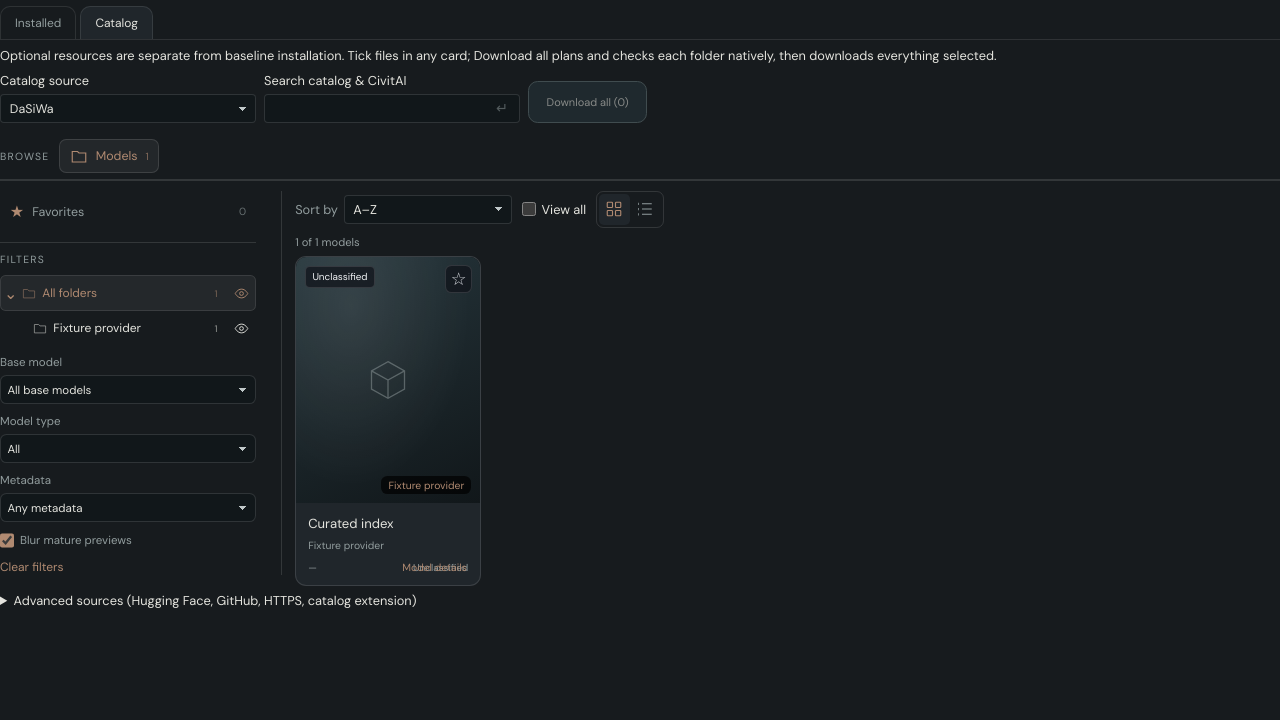
Test: installed advice exposes missing companions and opens their Library category without download or selection
This screenshot has width=1280, height=720.
Click the tab "Installed".
click(38, 22)  # box top-left (0, 6), bottom-right (76, 39)
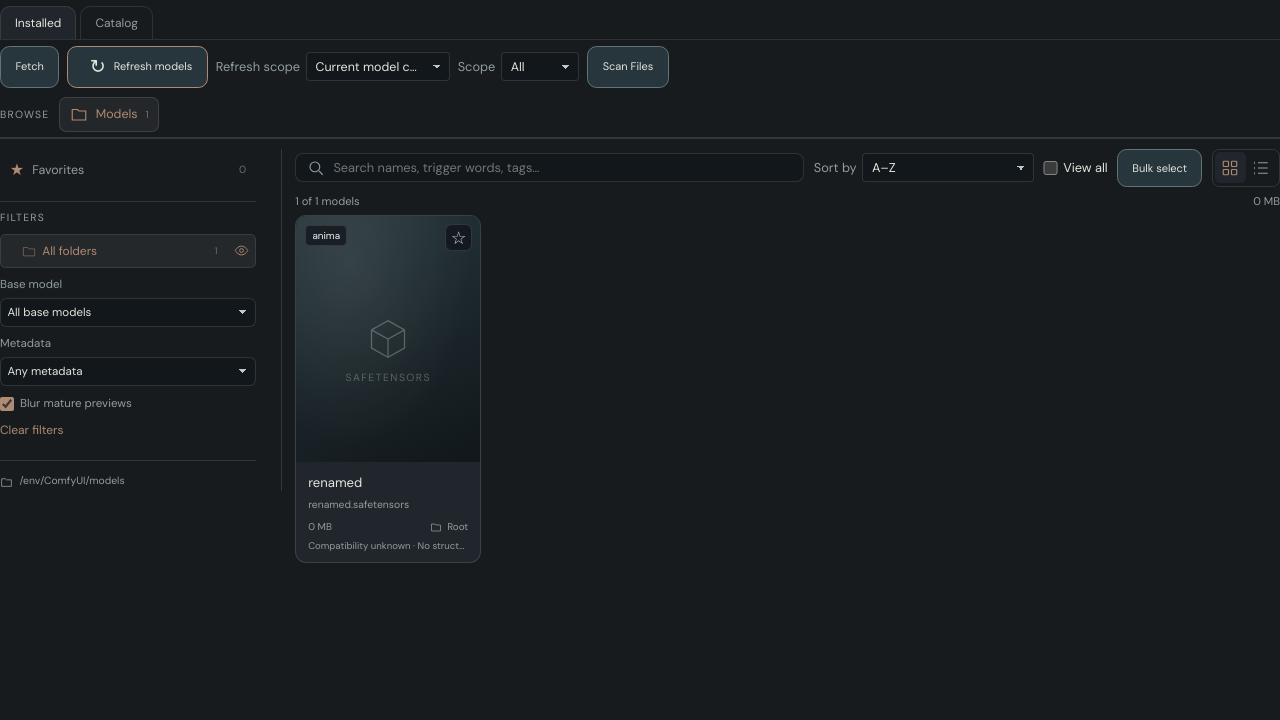
Click the button "renamed.safetensors".
click(388, 389)  # box top-left (296, 216), bottom-right (480, 562)
(page scrolled)
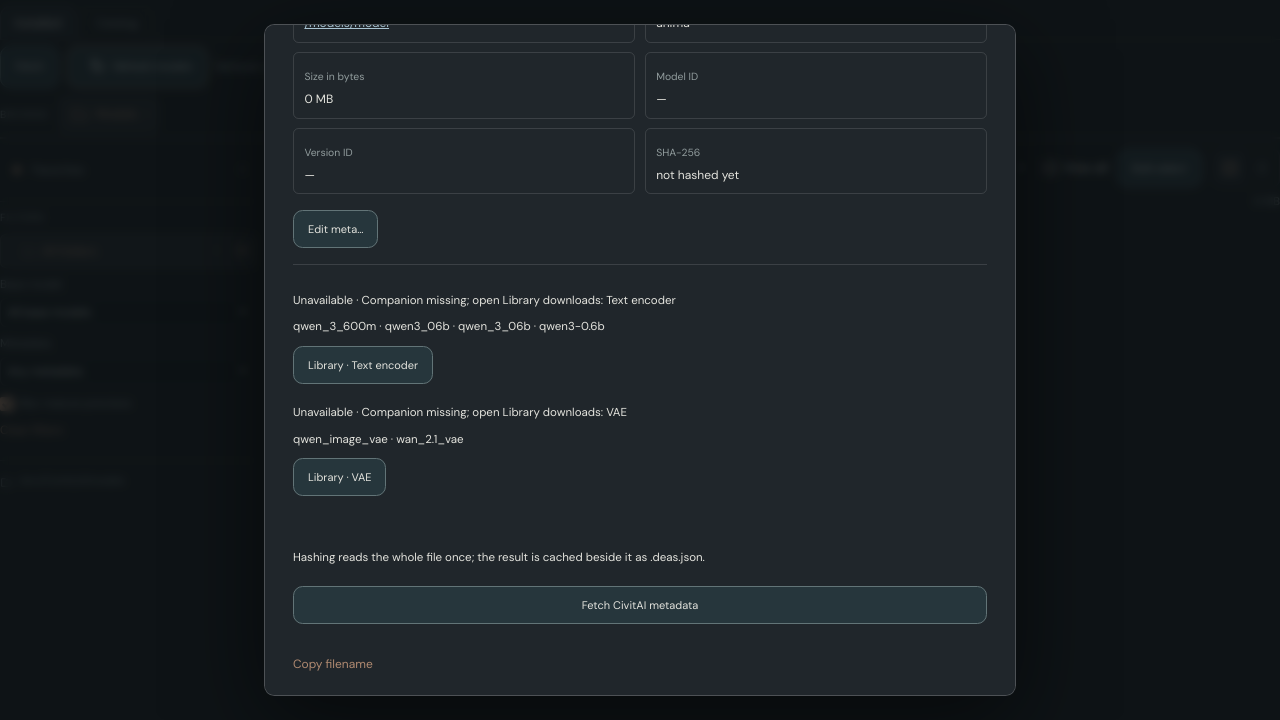
Expected: the text "qwen_3_600m · qwen3_06b · qwen_3_06b · qwen3-0.6b" is shown, top-left (293, 319), bottom-right (605, 334)
Click the button "Library · Text encoder".
click(363, 365)  # box top-left (293, 346), bottom-right (433, 384)
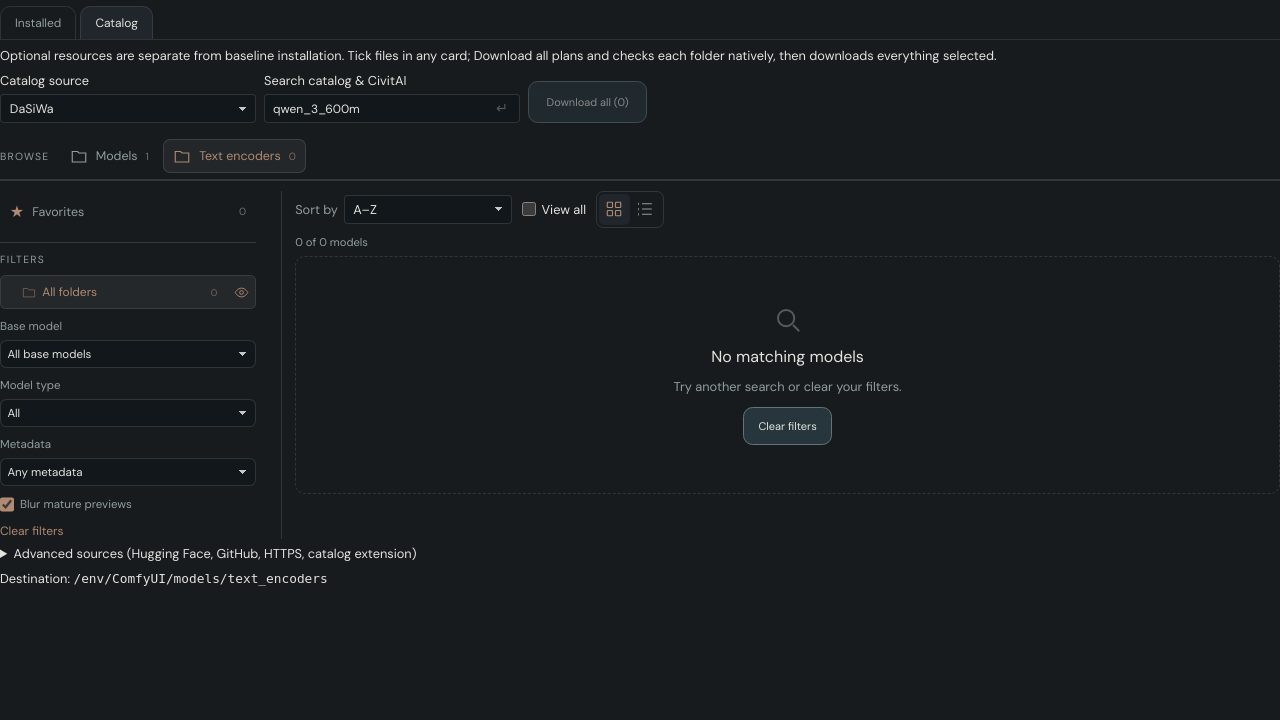
Expected: the tab "Catalog" is selected, top-left (80, 6), bottom-right (153, 39)
